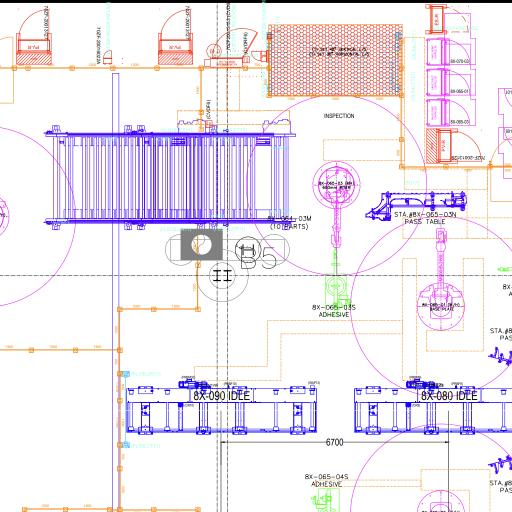robot: (414, 225, 469, 331), (311, 158, 363, 248)
